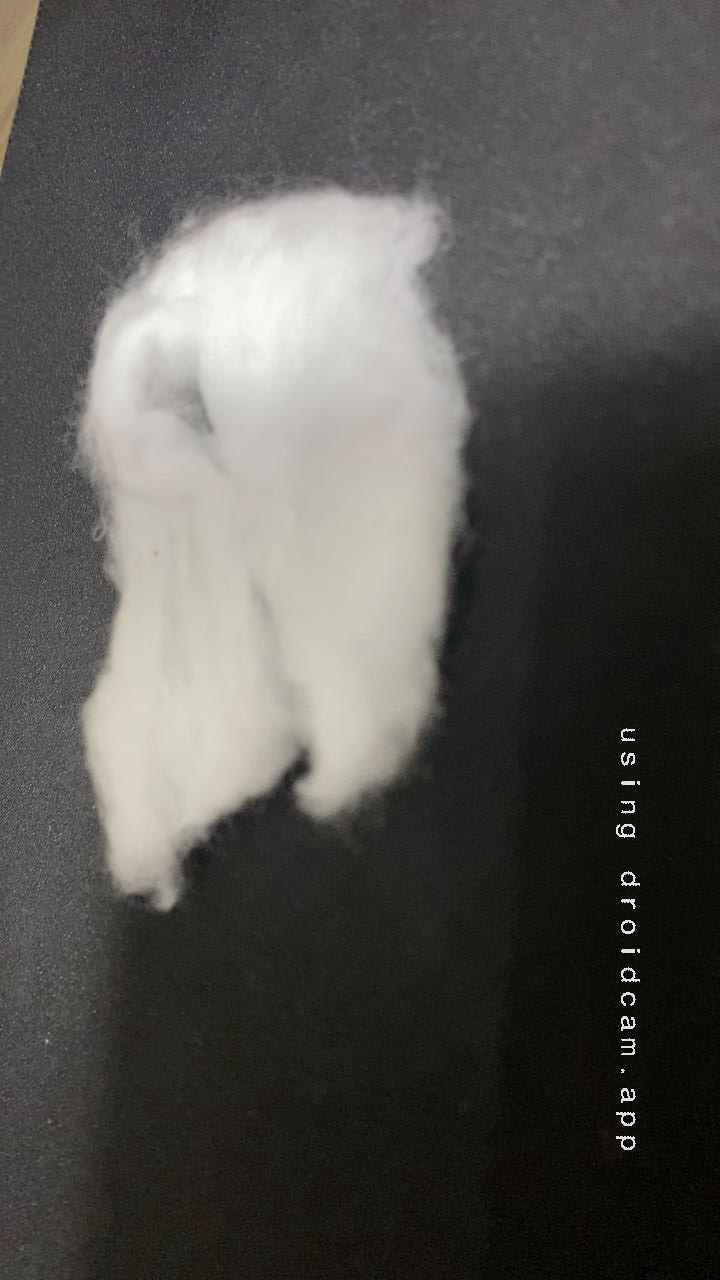cotton: (0, 140, 567, 896)
